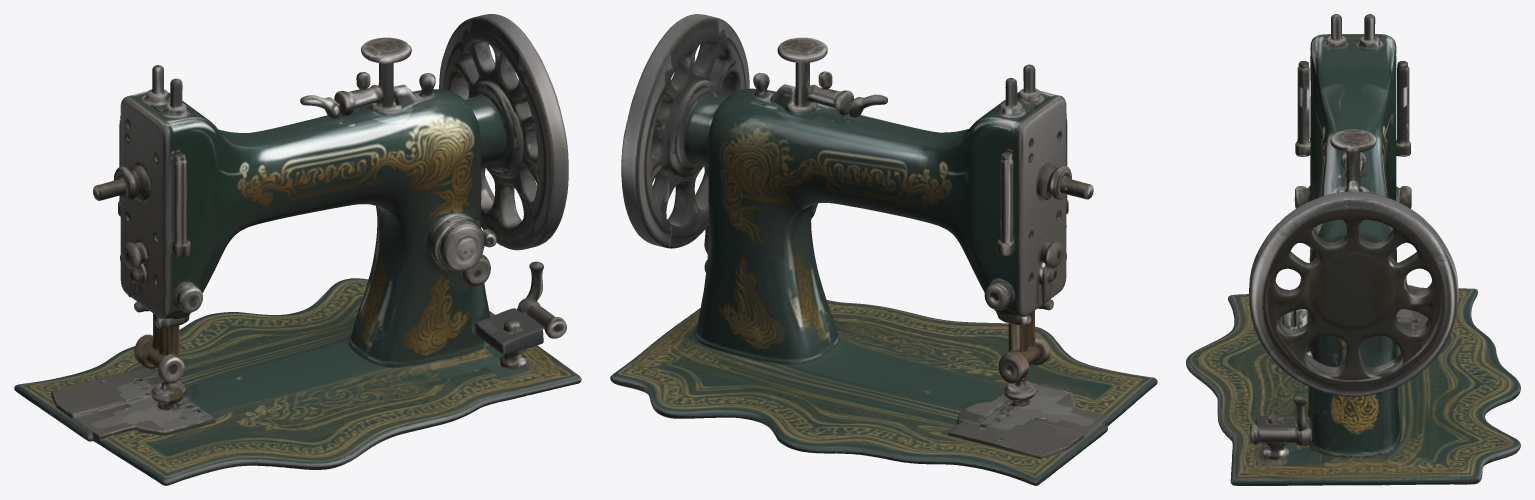
The model's file is source.glb.
3 renders of one model, left to right at view 1: azimuth 30°, elevation 25°; view 2: azimuth 150°, elevation 25°; view 3: azimuth 270°, elevation 25°, orthographic. The views are drawn at different scales.
Parts seen in each view (by area): view 1: geometry_0; view 2: geometry_0; view 3: geometry_0.
Boxes of the visible parts, x1,y1,x2,y2 form: geometry_0: (14, 14, 581, 485); geometry_0: (610, 14, 1157, 485); geometry_0: (1186, 14, 1520, 485).
Bounding box in the file's own units: 0.48 × 0.3671 × 0.3511.
Materials: 1 (1 with a texture image).
